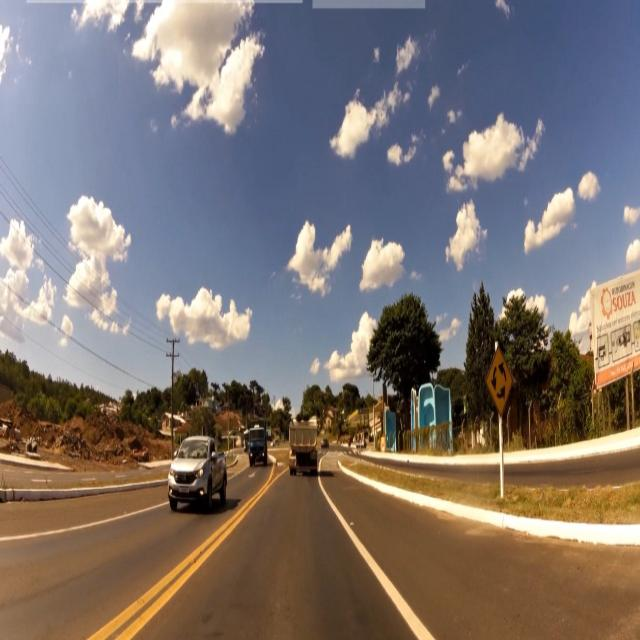A-12: (488, 344, 515, 416)
